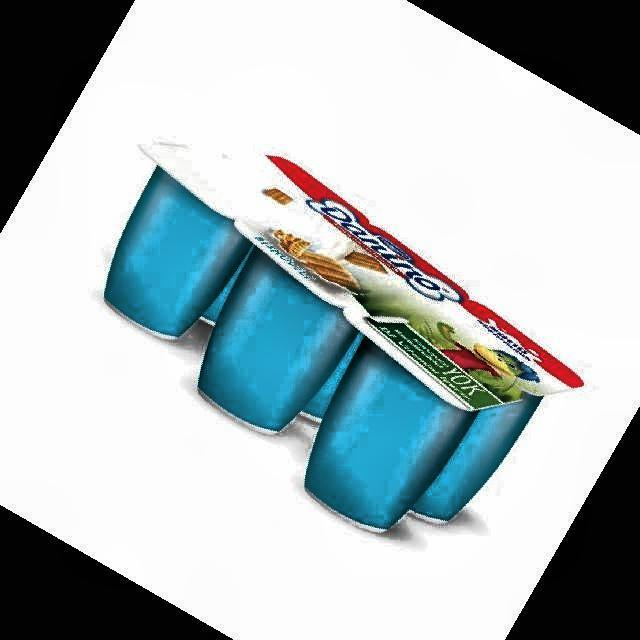plastic: (106, 144, 582, 529)
